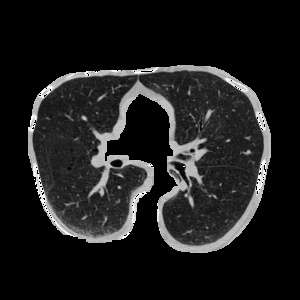PN: (246, 150, 250, 154)
